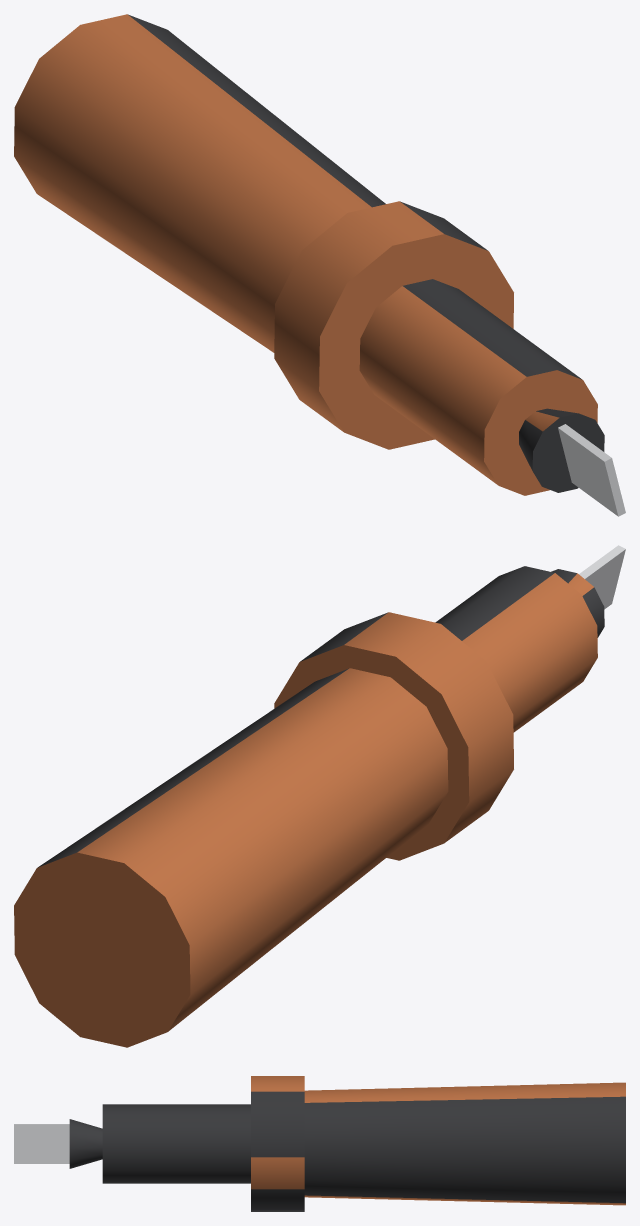
The model's file is PunchDownTool@Strike.fbx.
3 views of the same model, one above another, from view 1: azimuth 30°, elevation 25°; view 2: azimuth 150°, elevation 25°; view 3: azimuth 270°, elevation 25° (orthographic). The views are drawn at different scales.
Parts seen in each view (by area): view 1: PunchDownTool; view 2: PunchDownTool; view 3: PunchDownTool.
Boxes of the visible parts, box(x1,y1,x2,y2) form: PunchDownTool: box(14, 14, 625, 516); PunchDownTool: box(14, 545, 625, 1047); PunchDownTool: box(14, 1076, 625, 1211).
Size of the model in its own units: 3.26 by 3.26 by 14.85.
